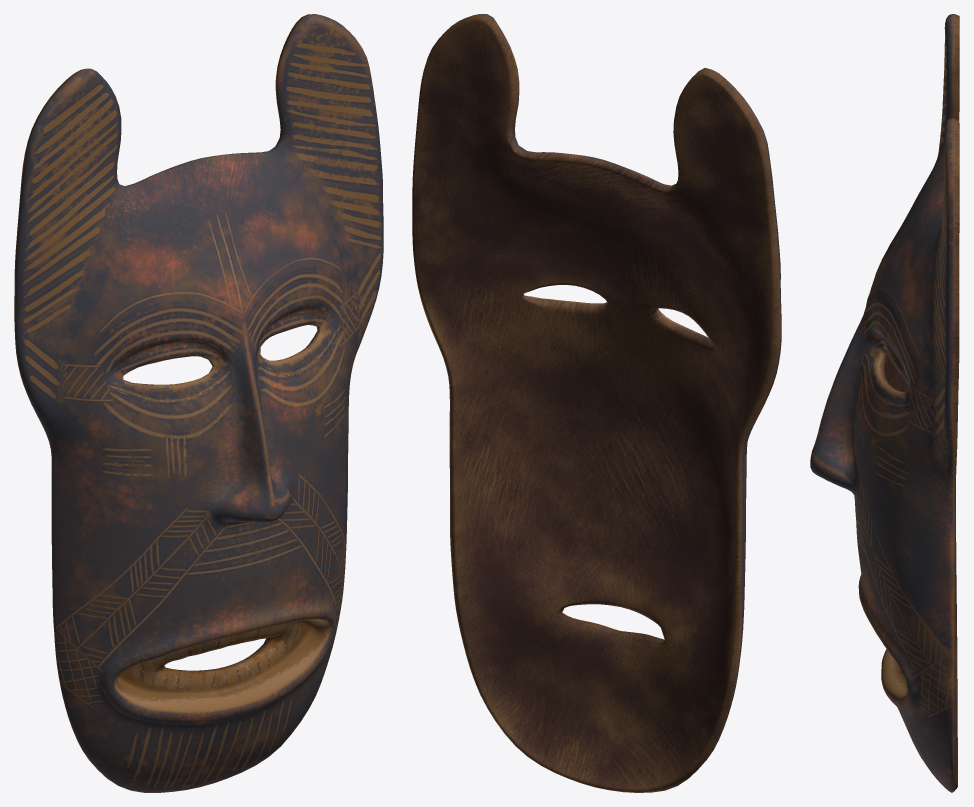
The model's file is african_mask.glb.
3 views of the same model, side by side, from view 1: azimuth 30°, elevation 25°; view 2: azimuth 150°, elevation 25°; view 3: azimuth 270°, elevation 25° (orthographic). The views are drawn at different scales.
Parts seen in each view (by area): view 1: defaultobject; view 2: defaultobject; view 3: defaultobject.
Boxes of the visible parts, x1,y1,x2,y2 form: defaultobject: (14, 14, 383, 792); defaultobject: (412, 14, 781, 792); defaultobject: (810, 14, 959, 792).
Size of the model in its own units: 1.03 by 2 by 0.3841.
1 material, 1 textured.
